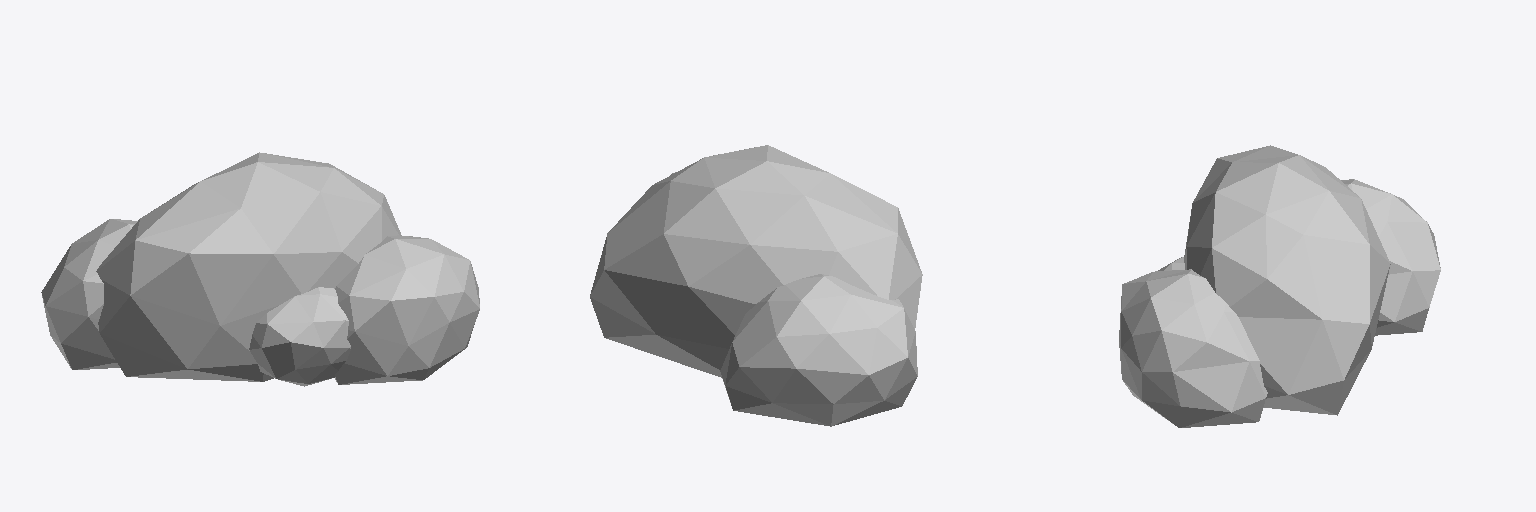
File: Bush.obj
3 views of the same model, side by side, from view 1: azimuth 30°, elevation 25°; view 2: azimuth 150°, elevation 25°; view 3: azimuth 270°, elevation 25° (orthographic).
Parts seen in each view (by area): view 1: Icosphere; view 2: Icosphere; view 3: Icosphere.
Boxes of the visible parts, box(x1,y1,x2,y2) form: Icosphere: box(41, 152, 479, 386); Icosphere: box(590, 145, 922, 426); Icosphere: box(1119, 145, 1440, 427).
Bounding box in the file's own units: 4.03 × 2.06 × 3.2.